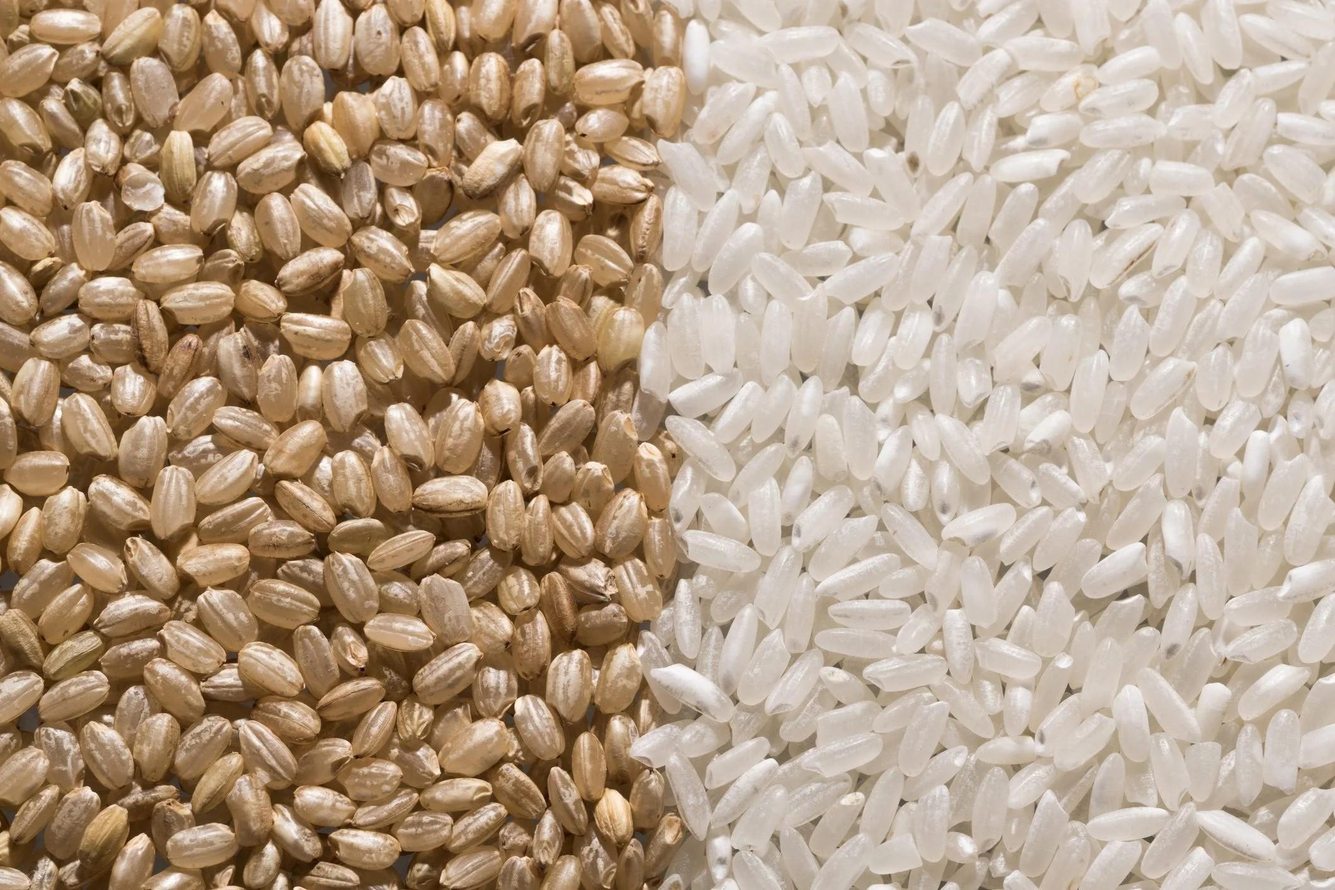WhiteRice: (691, 0, 1335, 890)
